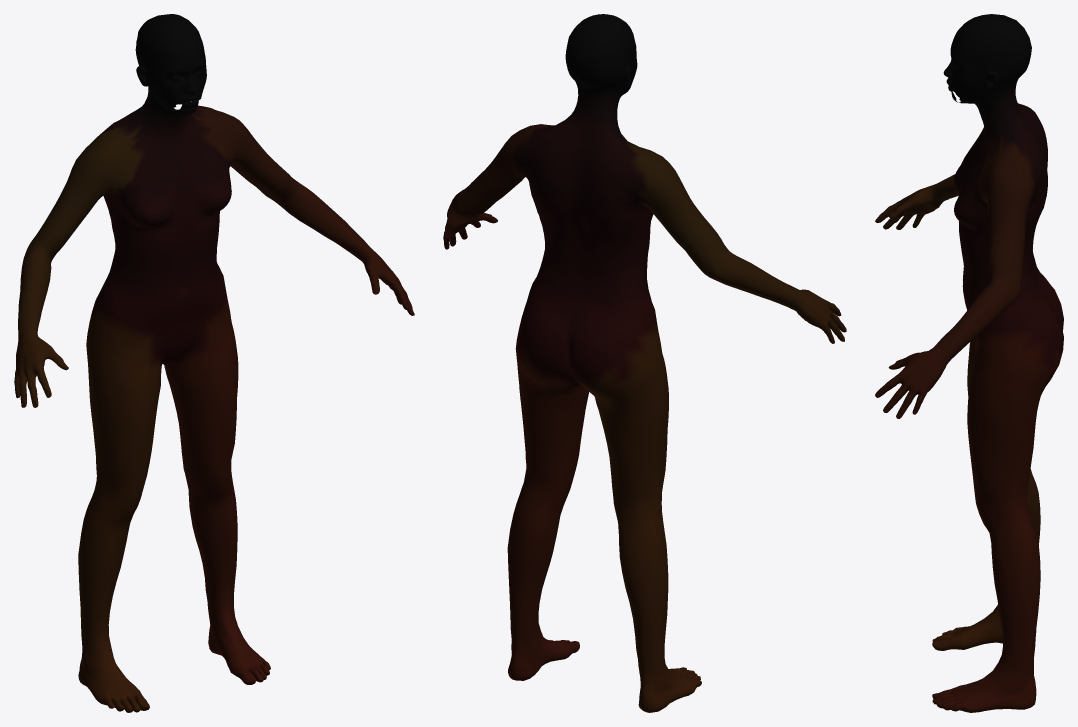
Rendered from body-female.glb.
3 views of the same model, side by side, from view 1: azimuth 30°, elevation 25°; view 2: azimuth 150°, elevation 25°; view 3: azimuth 270°, elevation 25° (orthographic).
Parts seen in each view (by area): view 1: body; view 2: body; view 3: body.
Part boxes in pixels (x1,y1,x2,y2): body: (14, 14, 414, 712); body: (443, 14, 846, 712); body: (875, 14, 1063, 712).
Size of the model in its own units: 2.07 by 3.33 by 0.8668.
